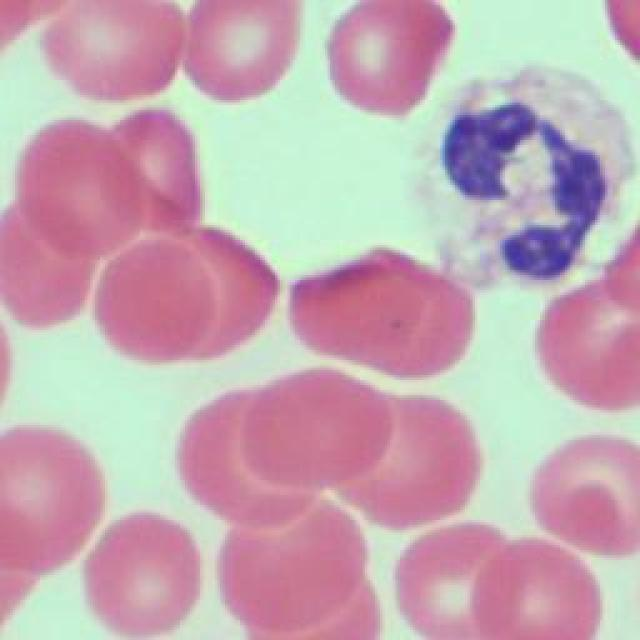RBC: (179, 388, 331, 532), (336, 390, 486, 532), (244, 365, 396, 490), (222, 494, 366, 624), (17, 124, 142, 256), (0, 424, 108, 571), (394, 522, 528, 640), (98, 240, 222, 365), (42, 0, 186, 105), (84, 516, 204, 639), (322, 0, 450, 115), (286, 245, 419, 355), (532, 430, 640, 565), (171, 231, 281, 361), (354, 262, 476, 378), (470, 540, 608, 640), (532, 290, 640, 412), (178, 0, 302, 105), (0, 199, 95, 331), (114, 110, 204, 232), (244, 572, 381, 640), (0, 511, 45, 629)
WBC: (419, 69, 639, 291)
